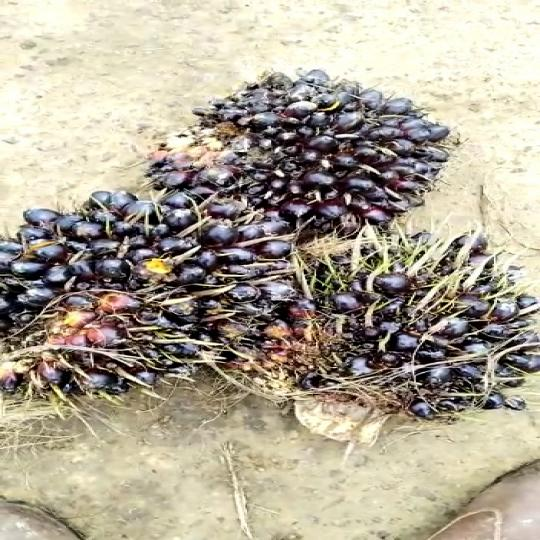mentah: (0, 183, 307, 410), (154, 63, 477, 241), (258, 226, 540, 424)
